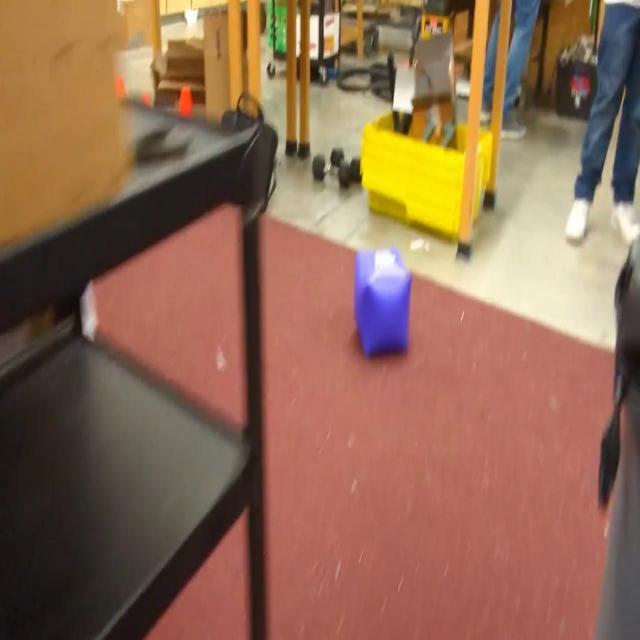frc_cube: (353, 246, 413, 361)
